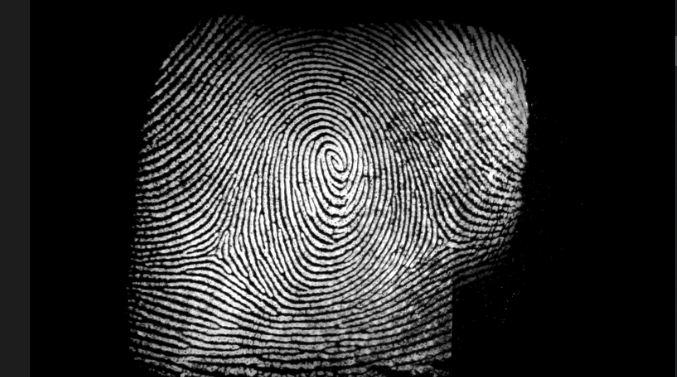nucelo: (319, 134, 353, 181)
verticilo: (197, 231, 236, 270), (426, 225, 461, 259)
